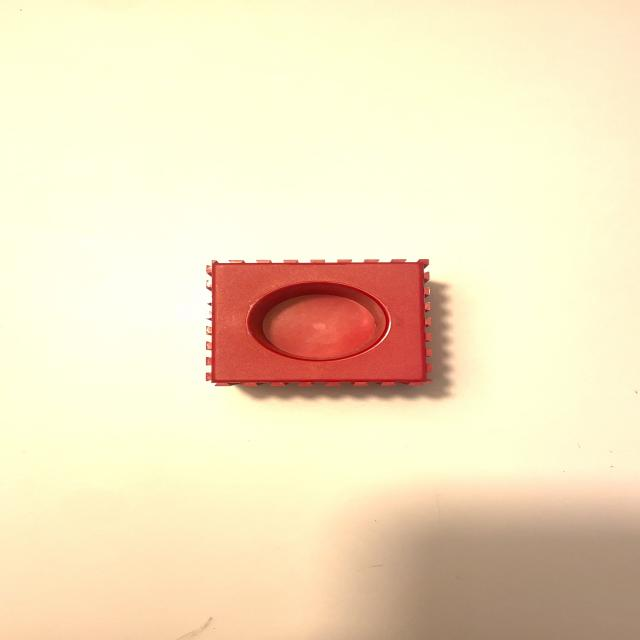Empty_Slot: (205, 260, 430, 386)
